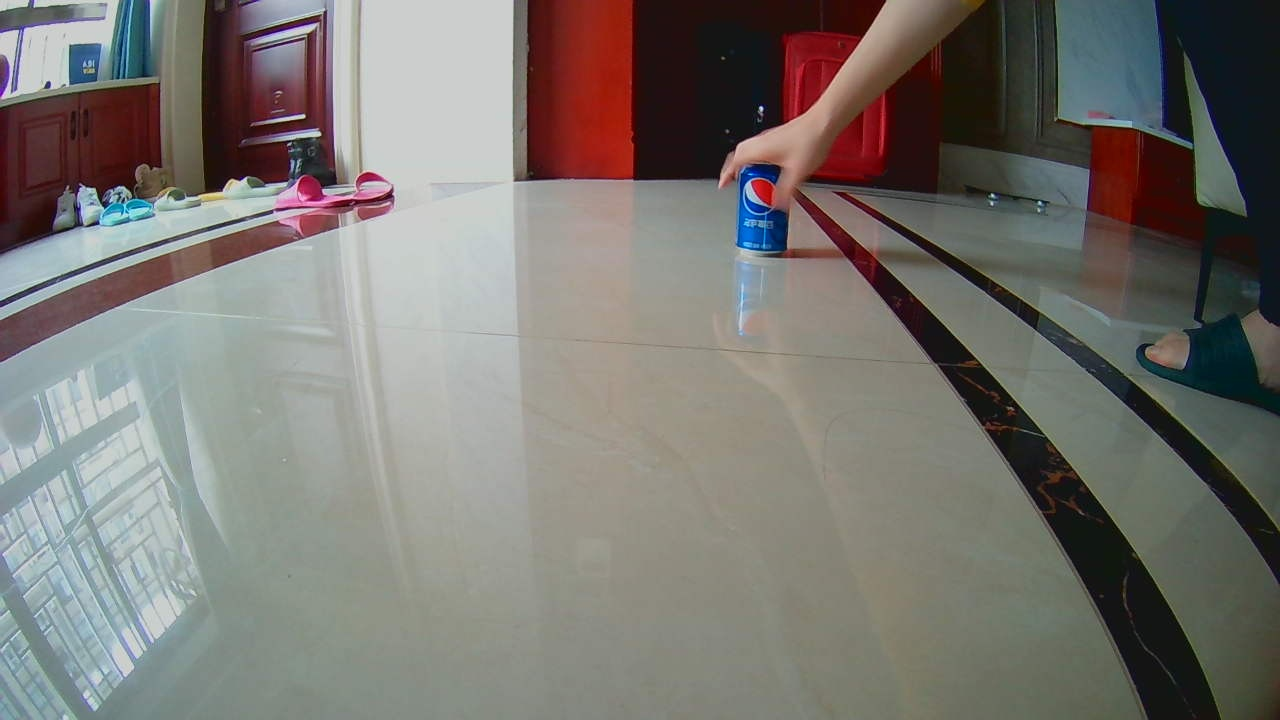pessi: (733, 163, 791, 252)
